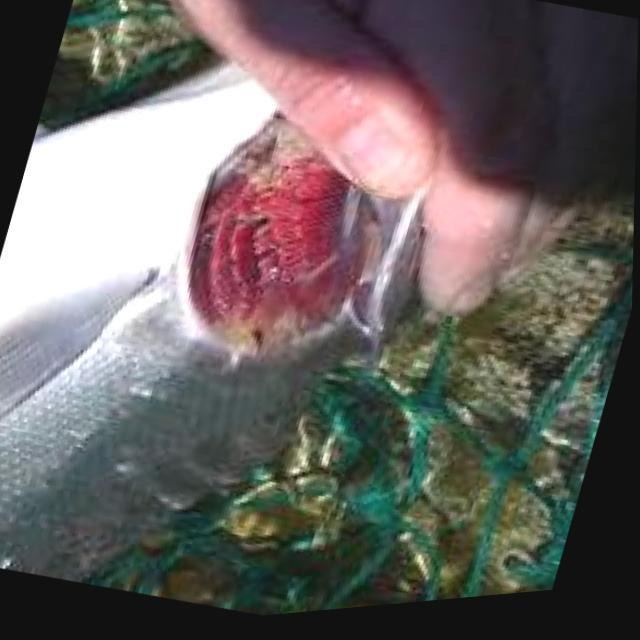Gill Disease: (162, 65, 452, 425)
